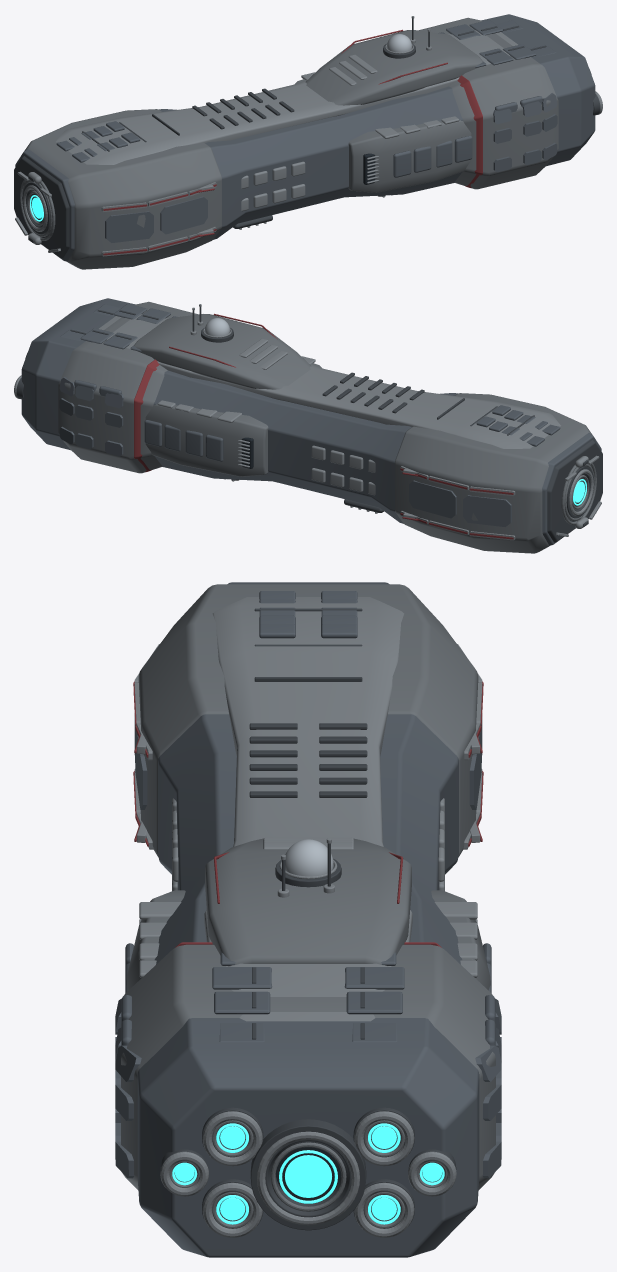
File: wei-siege.glb
3 renders of one model, top to bottom at view 1: azimuth 30°, elevation 25°; view 2: azimuth 150°, elevation 25°; view 3: azimuth 270°, elevation 25°, orthographic. The views are drawn at different scales.
Parts seen in each view (by area): view 1: Pressure hull, Armored forward siege jacket, Dorsal longitudinal beam, Aft transverse armored belt, Stepped armored bridge, Faceted side heat exchanger shell, Recessed octagonal beam face, Bow flank thick cladding.001, Bow flank thick cladding, Aft red expansion gasket, Exchanger segmented service casing.003, Exchanger segmented service casing (+6 smaller); view 2: Pressure hull, Armored forward siege jacket, Dorsal longitudinal beam, Aft transverse armored belt, Stepped armored bridge, Faceted side heat exchanger shell.001, Recessed octagonal beam face, Bow flank thick cladding.003, Bow flank thick cladding.002, Aft red expansion gasket, Exchanger segmented service casing.007, Exchanger segmented service casing.004 (+6 smaller); view 3: Pressure hull, Dorsal longitudinal beam, Armored forward siege jacket, Stepped armored bridge, Aft transverse armored belt, Central drive open nozzle sleeve, Central drive armored rim, Central drive cyan core, Auxiliary drive armored rim, Auxiliary drive armored rim.003, Dorsal aiming radome, Auxiliary drive armored rim.001 (+11 smaller).
Boxes of the visible parts, x1,y1,x2,y2 form: Pressure hull: (15, 14, 595, 261); Armored forward siege jacket: (24, 109, 221, 269); Dorsal longitudinal beam: (56, 30, 517, 164); Aft transverse armored belt: (418, 17, 558, 189); Stepped armored bridge: (305, 30, 482, 105); Faceted side heat exchanger shell: (348, 120, 471, 192); Recessed octagonal beam face: (14, 156, 69, 258); Bow flank thick cladding.001: (160, 196, 207, 234); Bow flank thick cladding: (105, 211, 153, 242); Aft red expansion gasket: (457, 75, 482, 187); Exchanger segmented service casing.003: (454, 136, 472, 162); Exchanger segmented service casing: (393, 150, 411, 177); Pressure hull: (21, 298, 601, 545); Armored forward siege jacket: (395, 393, 592, 553); Dorsal longitudinal beam: (99, 314, 560, 448); Aft transverse armored belt: (58, 301, 197, 473); Stepped armored bridge: (134, 314, 311, 389); Faceted side heat exchanger shell.001: (145, 404, 268, 476); Recessed octagonal beam face: (547, 440, 602, 542); Bow flank thick cladding.003: (409, 480, 456, 518); Bow flank thick cladding.002: (463, 495, 511, 526); Aft red expansion gasket: (134, 359, 159, 471); Exchanger segmented service casing.007: (144, 420, 162, 446); Exchanger segmented service casing.004: (205, 434, 223, 461); Pressure hull: (137, 582, 479, 1257); Dorsal longitudinal beam: (204, 597, 412, 1021); Armored forward siege jacket: (138, 584, 478, 857); Stepped armored bridge: (205, 838, 411, 966); Aft transverse armored belt: (121, 944, 495, 1189); Central drive open nozzle sleeve: (250, 1119, 366, 1230); Central drive armored rim: (257, 1131, 359, 1225); Central drive cyan core: (285, 1155, 331, 1197); Auxiliary drive armored rim: (202, 1111, 262, 1166); Auxiliary drive armored rim.003: (354, 1111, 414, 1166); Dorsal aiming radome: (285, 839, 333, 876); Auxiliary drive armored rim.001: (202, 1182, 262, 1237).
Size of the model in its own units: 1050 by 299 by 326.
